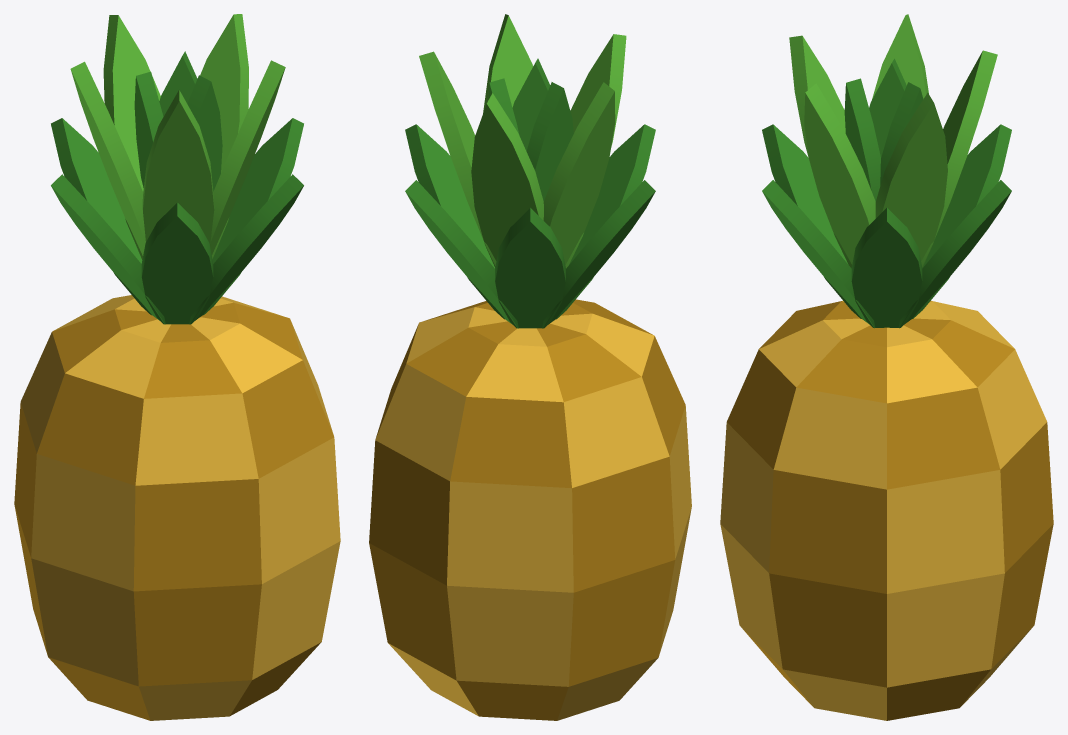
The model's file is Pineapple.fbx.
The picture shows the model from 3 angles, left to right: view 1: azimuth 30°, elevation 25°; view 2: azimuth 150°, elevation 25°; view 3: azimuth 270°, elevation 25°; orthographic projection.
Visible parts, largest first — view 1: Pineapple; view 2: Pineapple; view 3: Pineapple.
Boxes of the visible parts, <box> form: Pineapple: <box>14,14,340,720</box>; Pineapple: <box>369,14,691,720</box>; Pineapple: <box>720,14,1053,720</box>.
Bounding box in the file's own units: 1.04 × 2.16 × 1.04.
Materials: 1 (1 with a texture image).
